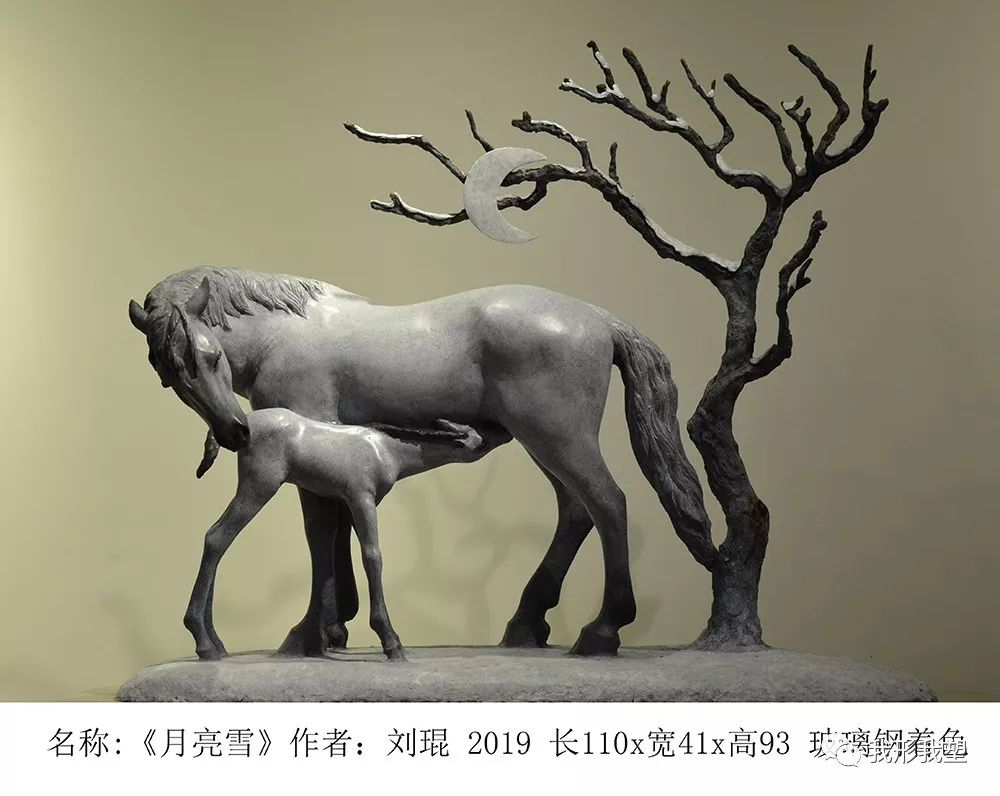background: (86, 242, 637, 598)
